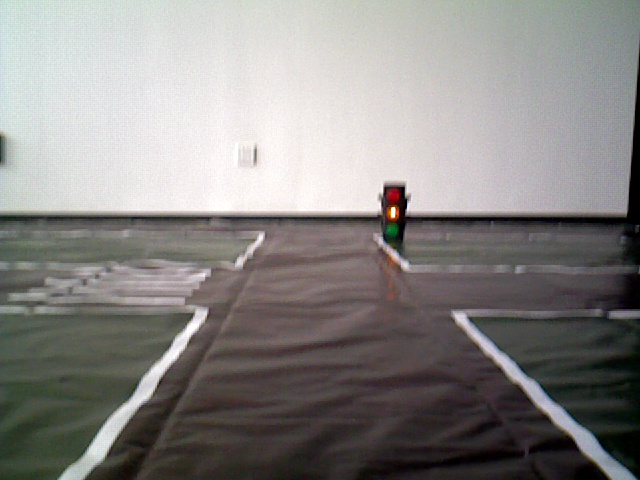yellow: (379, 182, 407, 246)
